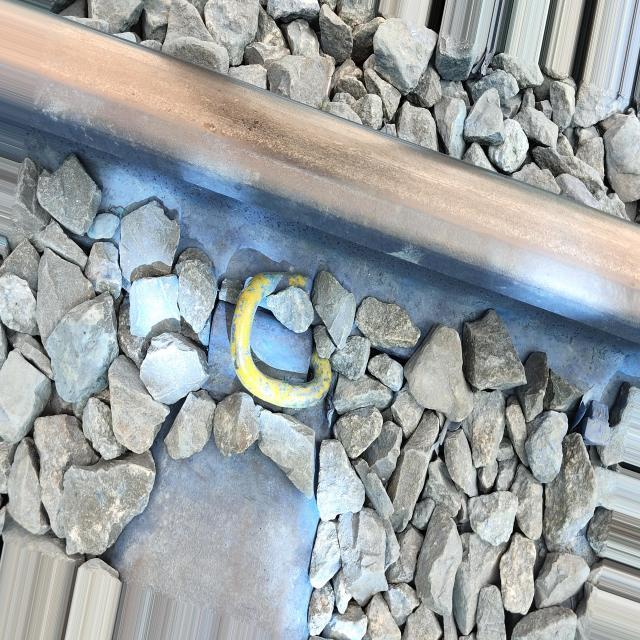Good Fasteners: (202, 272, 331, 410)
